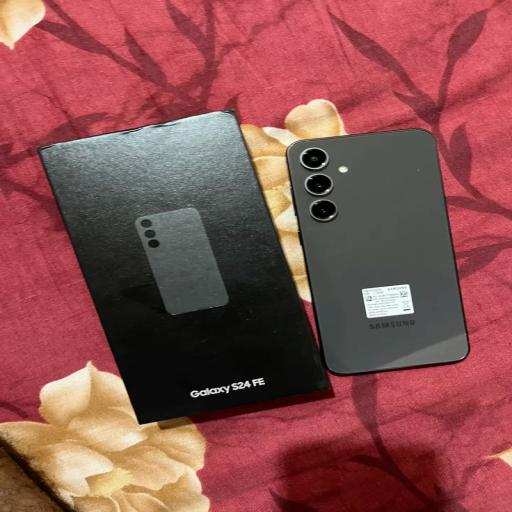people: (286, 129, 468, 374)
